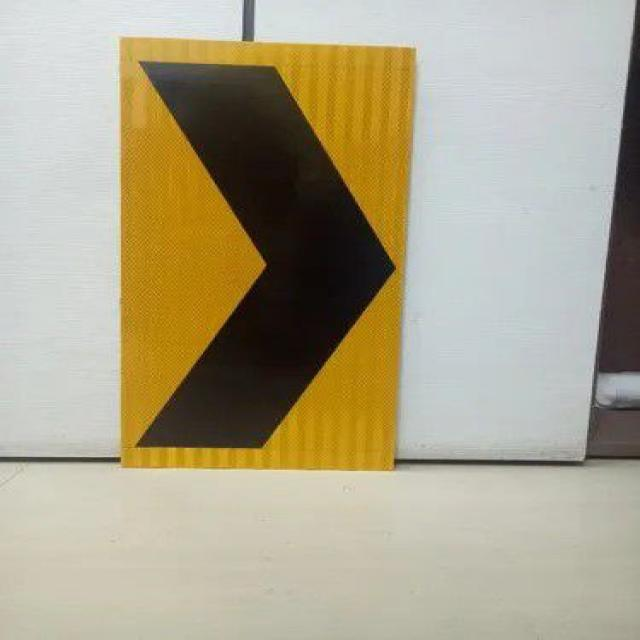chevron_right: (113, 38, 418, 468)
